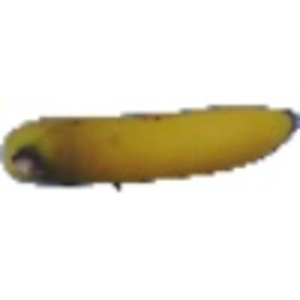banana: (1, 94, 297, 193)
